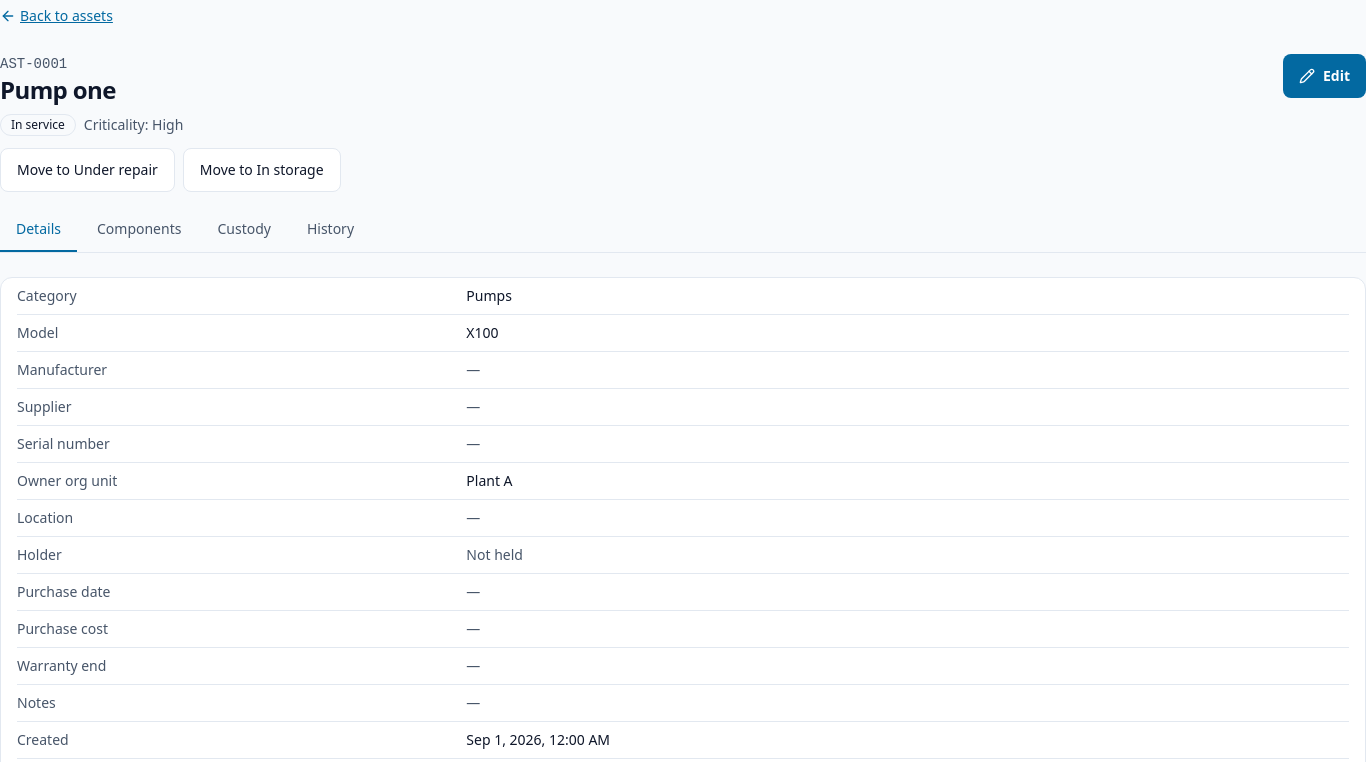
it: edit with version handling › offers a reload when the asset changed meanwhile (409), and shows the latest version
Click the button "Edit". click: click(1324, 76)
box: [1283,54,1365,98]
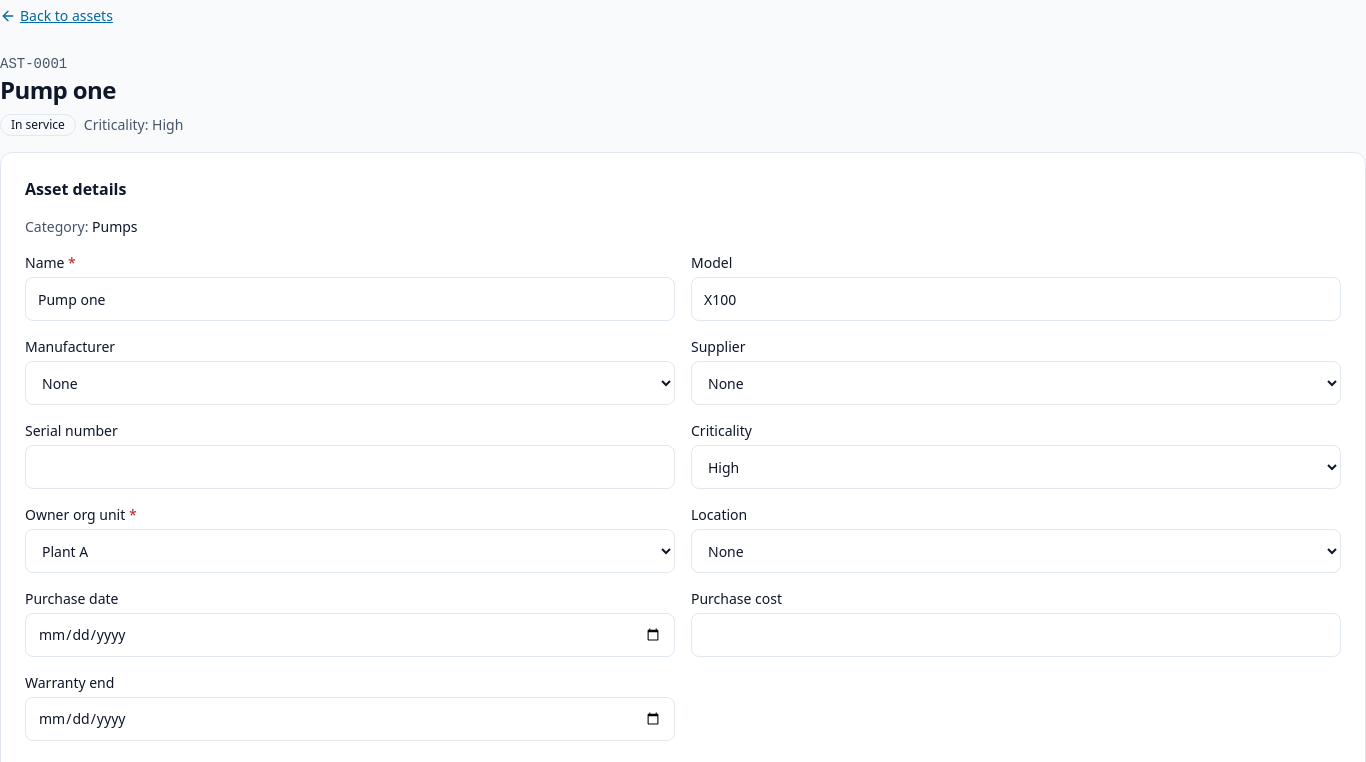
Replace the text in the field labelled "Name *" with "Mine". click: (350, 299)
box: [25,277,675,321]
(page scrolled)
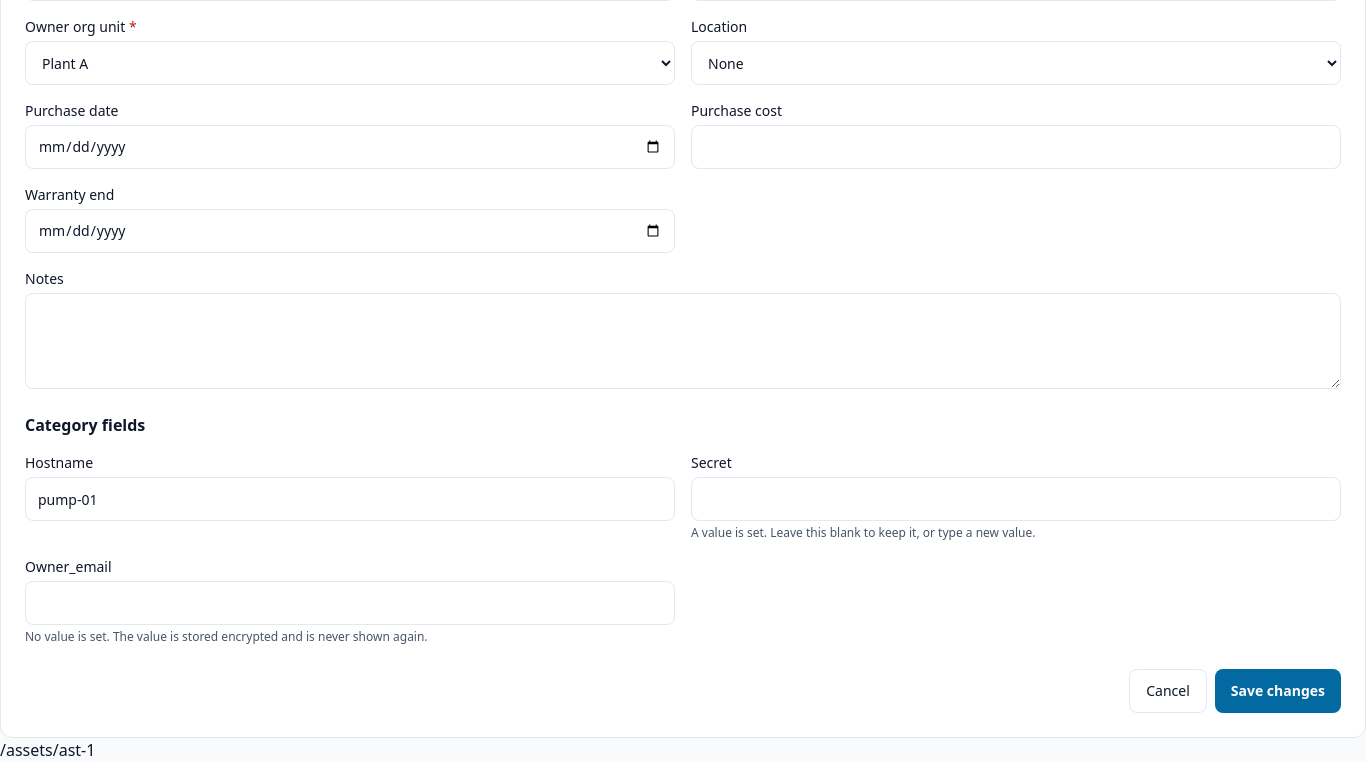
Click the button "Save changes". click: click(1278, 691)
box: [1215,669,1341,713]
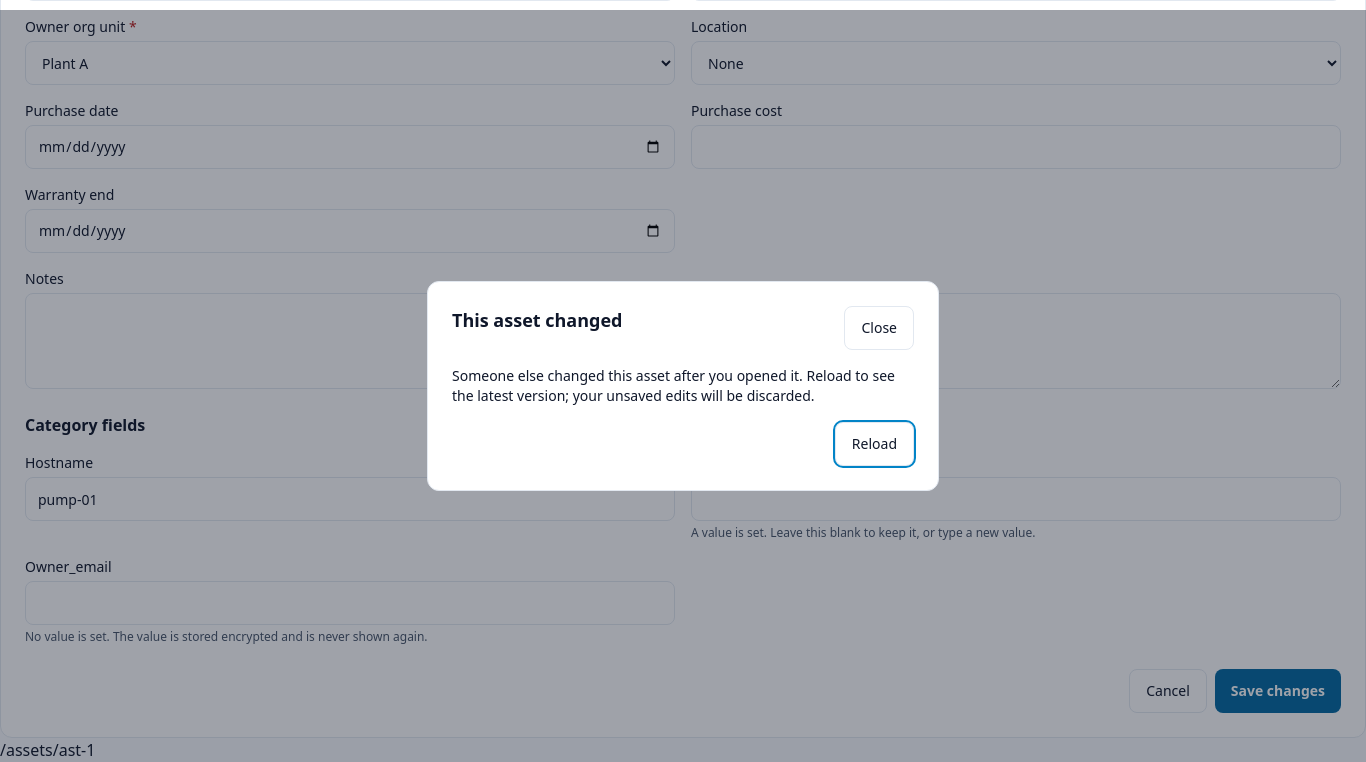
Expected: the text "Someone else changed this asset after you opened it. Reload to see the latest version; your unsaved edits will be discar" is shown, [452,366,895,405]
Click the button "Reload". click: click(874, 444)
box: [835,422,914,466]
(page scrolled)
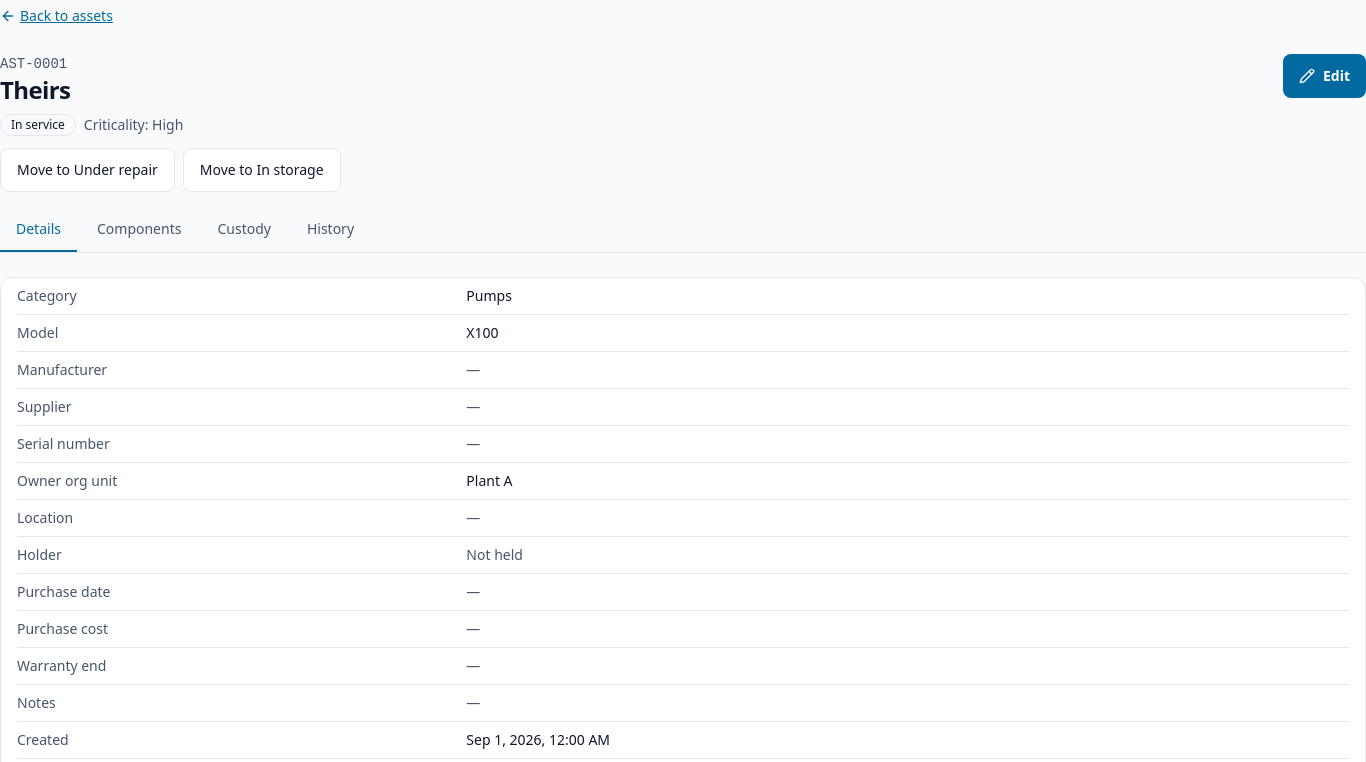
Expected: the heading "Theirs" is shown, [0,73,70,106]
Expected: the dialog is gone
